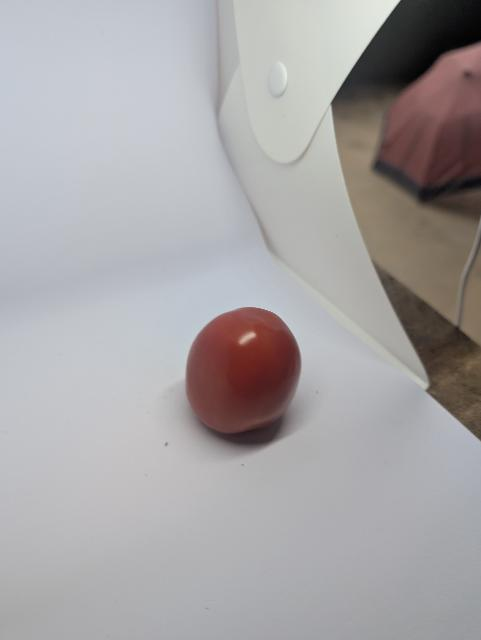red: (178, 302, 318, 444)
